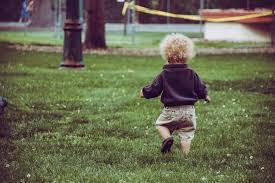child: (132, 32, 219, 157)
